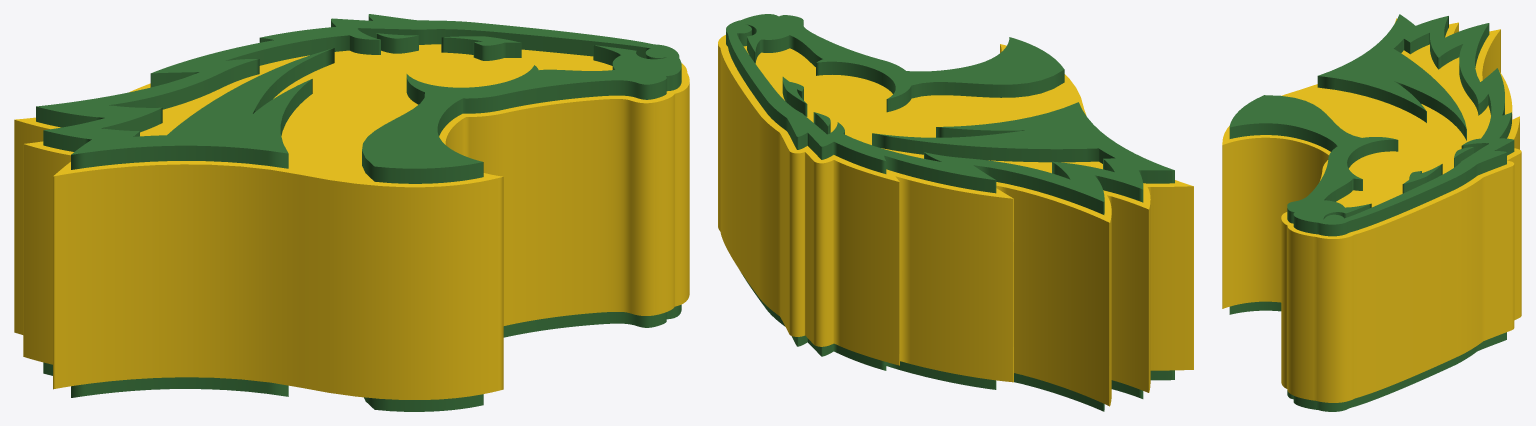
The model's file is bronco.glb.
The picture shows the model from 3 angles, left to right: view 1: azimuth 30°, elevation 25°; view 2: azimuth 150°, elevation 25°; view 3: azimuth 270°, elevation 25°; orthographic projection. The views are drawn at different scales.
Visible parts, largest first — view 1: path14, path20, path18, path16; view 2: path14, path20, path18; view 3: path14, path20, path18.
Boxes of the visible parts, bbox=[...] form: path14: bbox=[14, 44, 689, 399]; path20: bbox=[36, 14, 681, 411]; path18: bbox=[441, 36, 521, 60]; path16: bbox=[376, 33, 418, 53]; path14: bbox=[718, 35, 1193, 406]; path20: bbox=[726, 14, 1174, 411]; path18: bbox=[782, 77, 807, 116]; path14: bbox=[1222, 18, 1521, 402]; path20: bbox=[1229, 14, 1514, 411]; path18: bbox=[1402, 164, 1442, 193].
Size of the model in its own units: 4.45 by 1.76 by 2.55.
